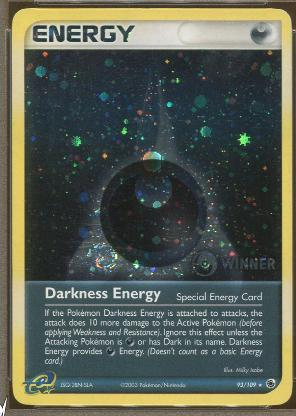Card: (7, 7, 293, 407)
